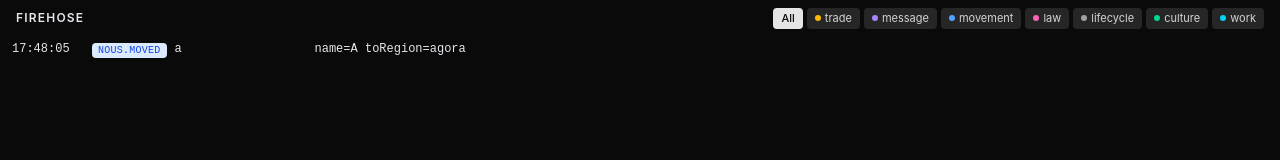
it: Firehose › F-4: renders filter-active empty state when filter matches nothing
Activate the 'trade' filter → no matches.
Click the button "trade" at (833, 18), box [807,8,860,28]
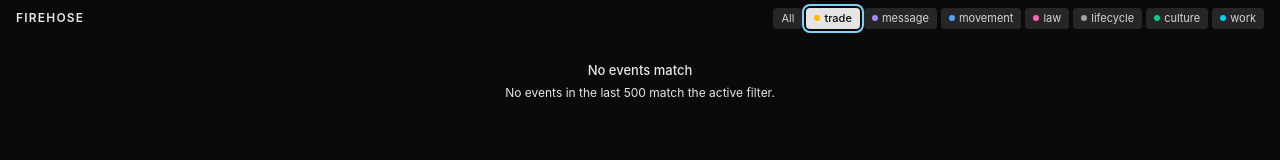
Now the text "No events match" is shown, box [588,62,692,78]
Now the list with test id "firehose-list" is gone
